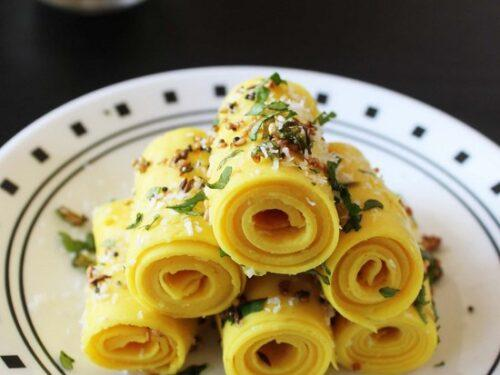khandvi: (103, 84, 447, 371)
